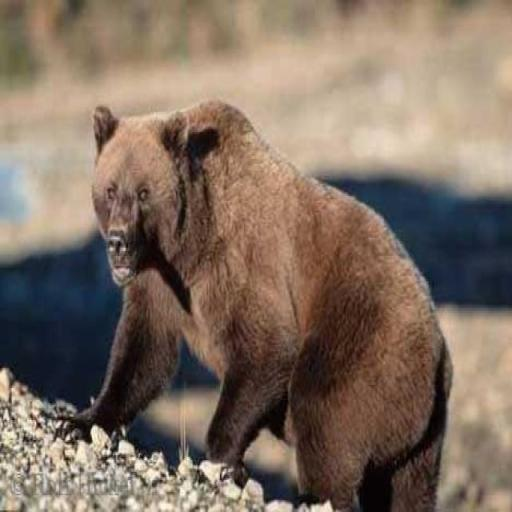Bear: (52, 97, 454, 510)
